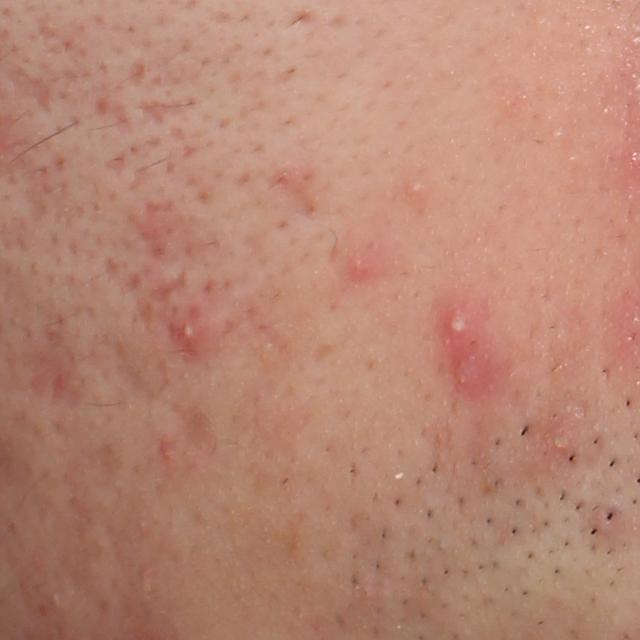atrophic_scar: (126, 195, 183, 265), (166, 399, 223, 461), (111, 340, 160, 403), (8, 68, 56, 118), (132, 98, 201, 132), (146, 271, 192, 307), (129, 63, 149, 87), (103, 155, 124, 175)
comedo: (402, 180, 427, 201)
papule: (347, 255, 374, 284)
pustule: (168, 312, 213, 357), (440, 303, 478, 341)
